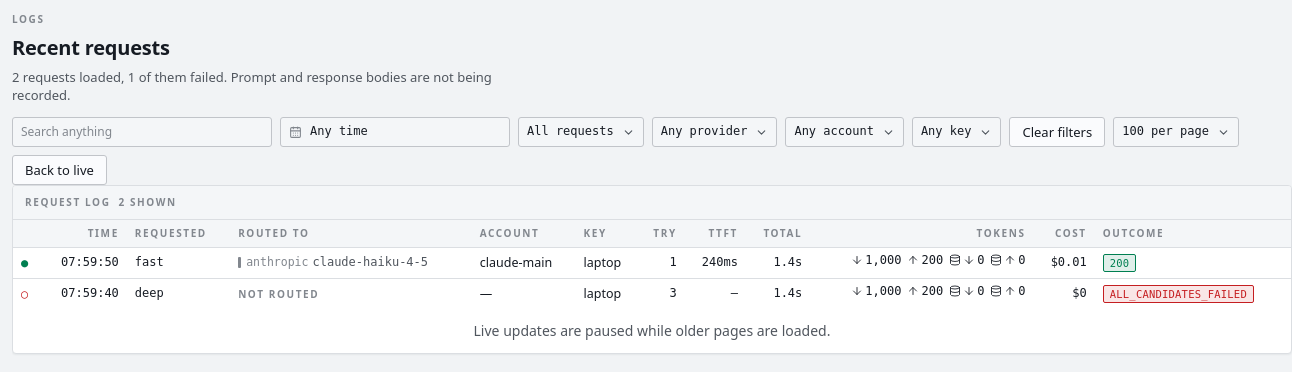
Test case: LogsBoard › loading older pages says live updates are paused, and offers the way back
Check: the text "fast" is shown, box [135,255,164,269]
Check: the text "deep" is shown, box [135,286,164,300]
Click the button "Back to live": coordinates (59, 170) [12,155,107,185]
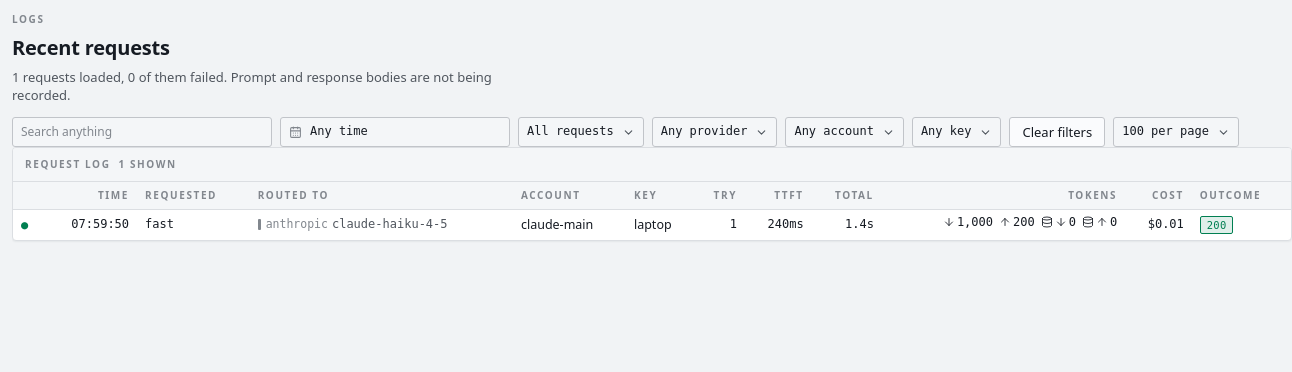
Check: the text "fast" is shown, box [145,217,174,231]
Check: the text "deep" is gone
Check: the text "Live updates are paused" is gone
